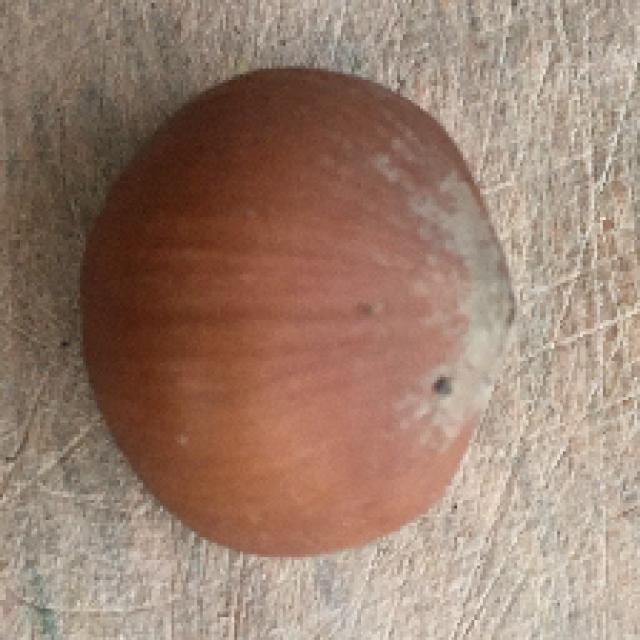qualityHazelnut: (73, 60, 521, 562)
